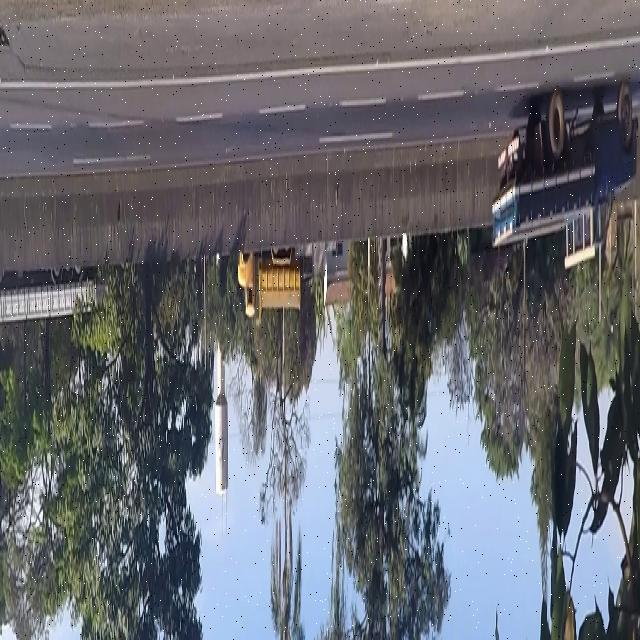-axle: (616, 68, 634, 155), (549, 80, 565, 174)
